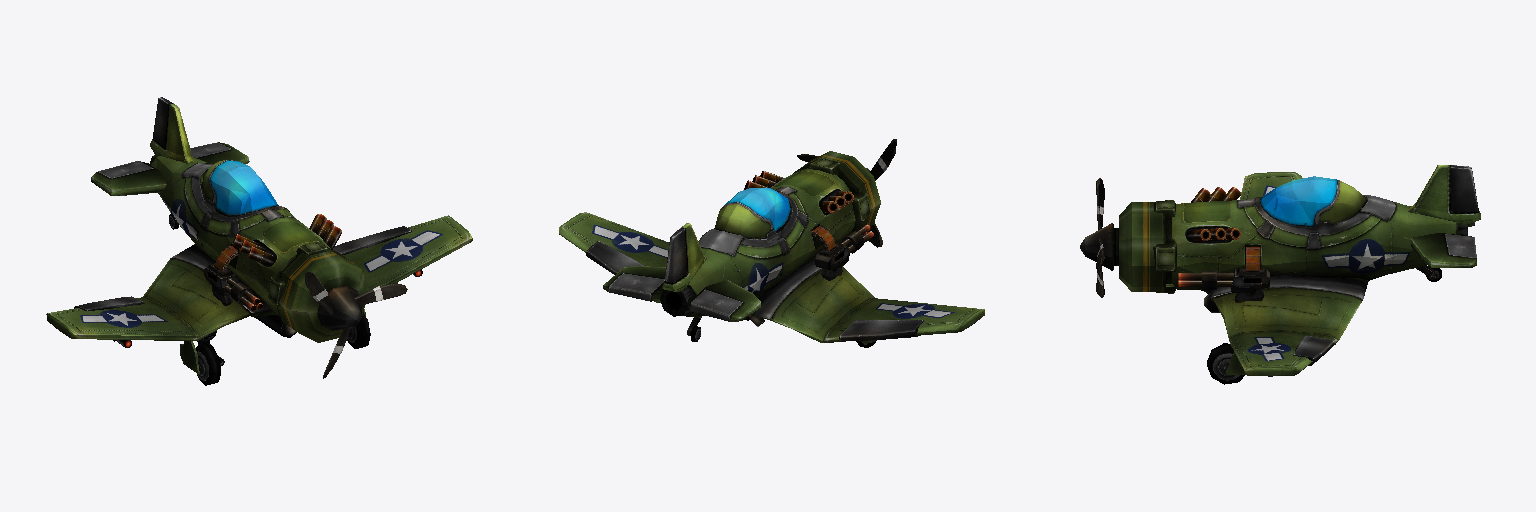
The picture shows the model from 3 angles: view 1: azimuth 30°, elevation 25°; view 2: azimuth 150°, elevation 25°; view 3: azimuth 270°, elevation 25°; orthographic projection.
Parts seen in each view (by area): view 1: final_model_; view 2: final_model_; view 3: final_model_.
Boxes of the visible parts, <box> form: final_model_: <box>46,97,472,385</box>; final_model_: <box>559,139,984,347</box>; final_model_: <box>1080,165,1480,384</box>.
Size of the model in its own units: 79.16 by 33.97 by 68.33.
Materials: 1 (1 with a texture image).